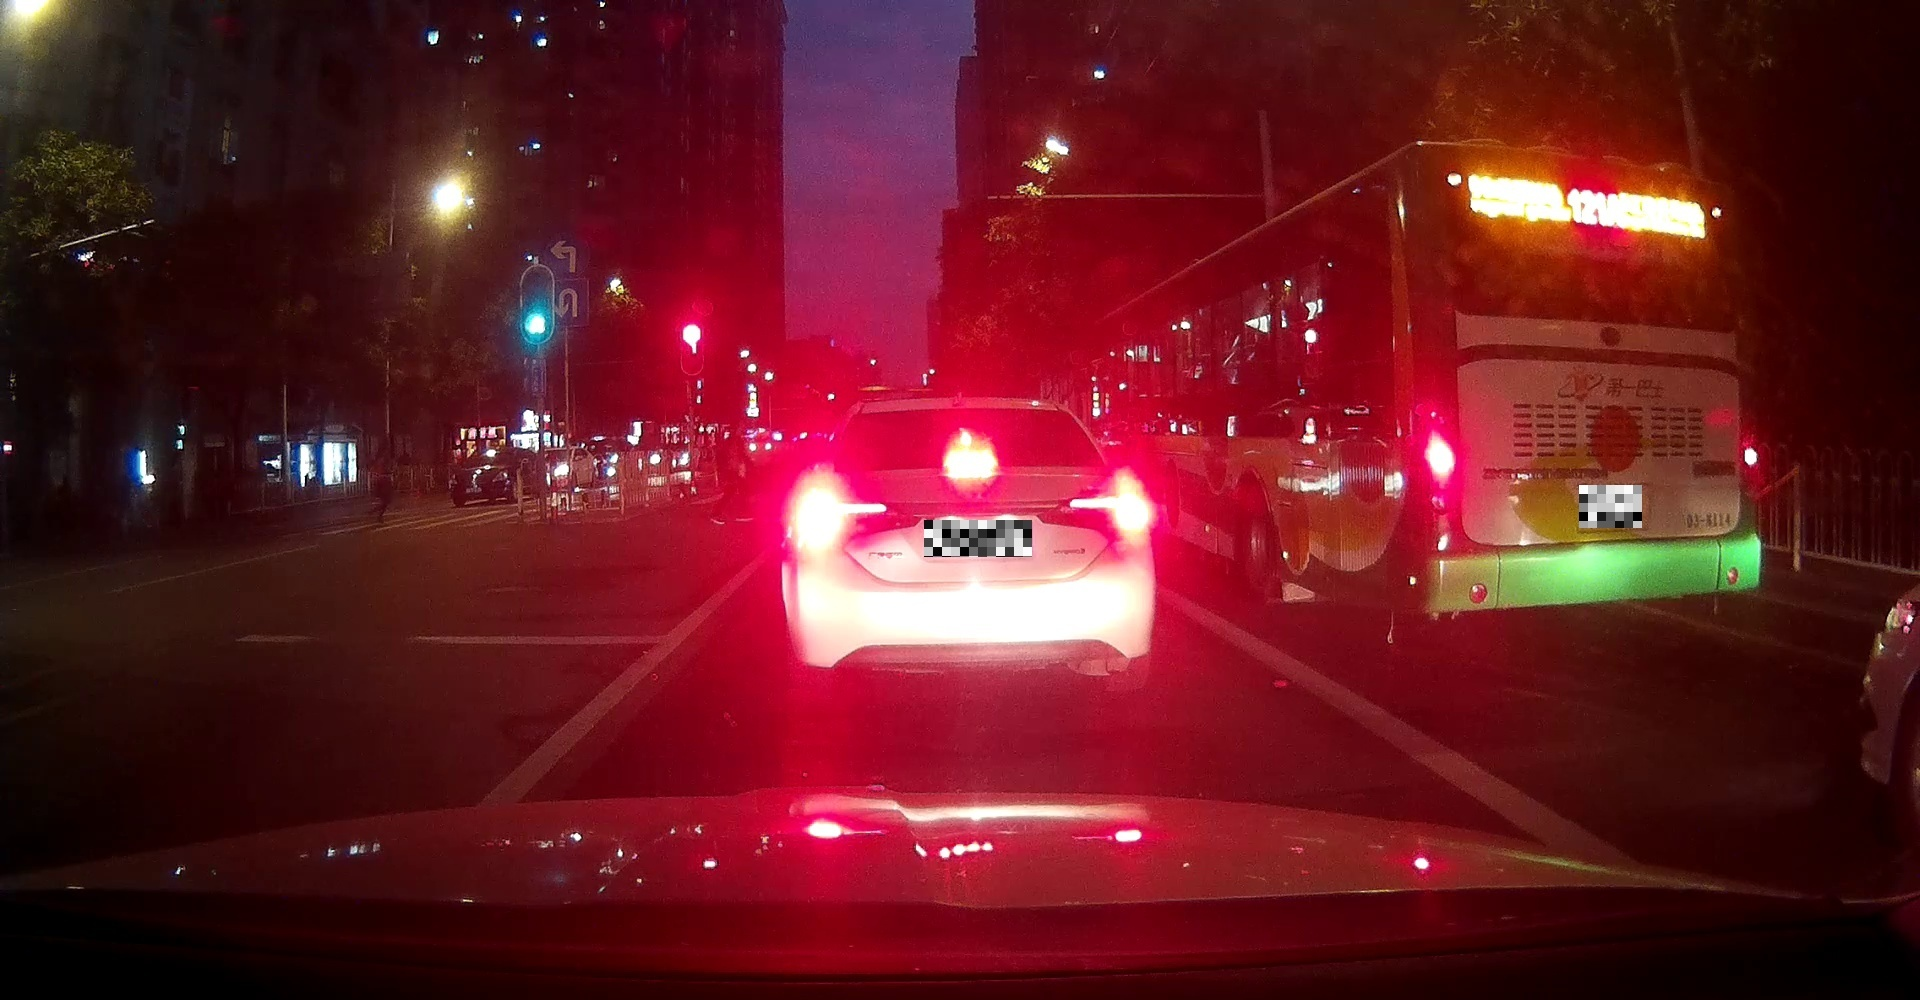L_light: (783, 489, 919, 551), (1423, 428, 1457, 492)
R_light: (1039, 489, 1153, 549), (1738, 428, 1760, 485)
T_light: (941, 449, 998, 470), (1570, 165, 1627, 179)
night-brake: (782, 398, 1154, 692)
night-no: (1407, 140, 1761, 619)
plate_1: (924, 520, 1032, 557)
plate_2: (1578, 485, 1642, 528)
